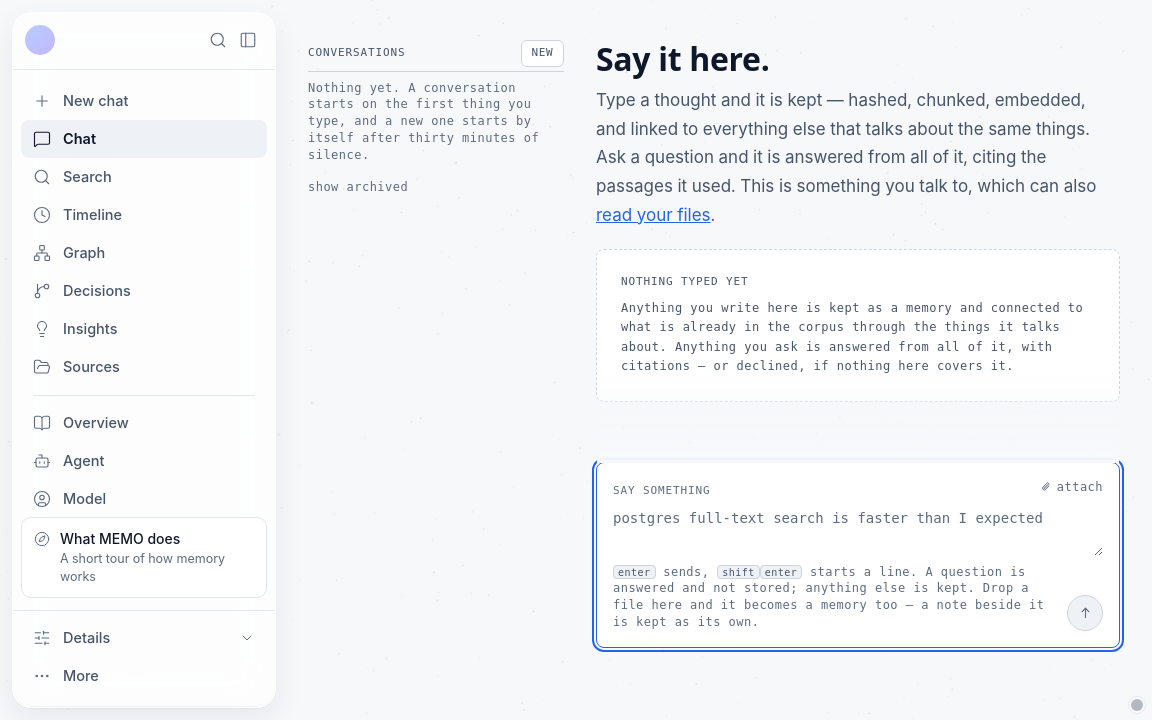
Test: the shortcuts sheet › is reachable from More in the sidebar, for anyone who does not know ?
This screenshot has width=1152, height=720.
Click the button "More" at [144, 676], box [21,657,267,695]
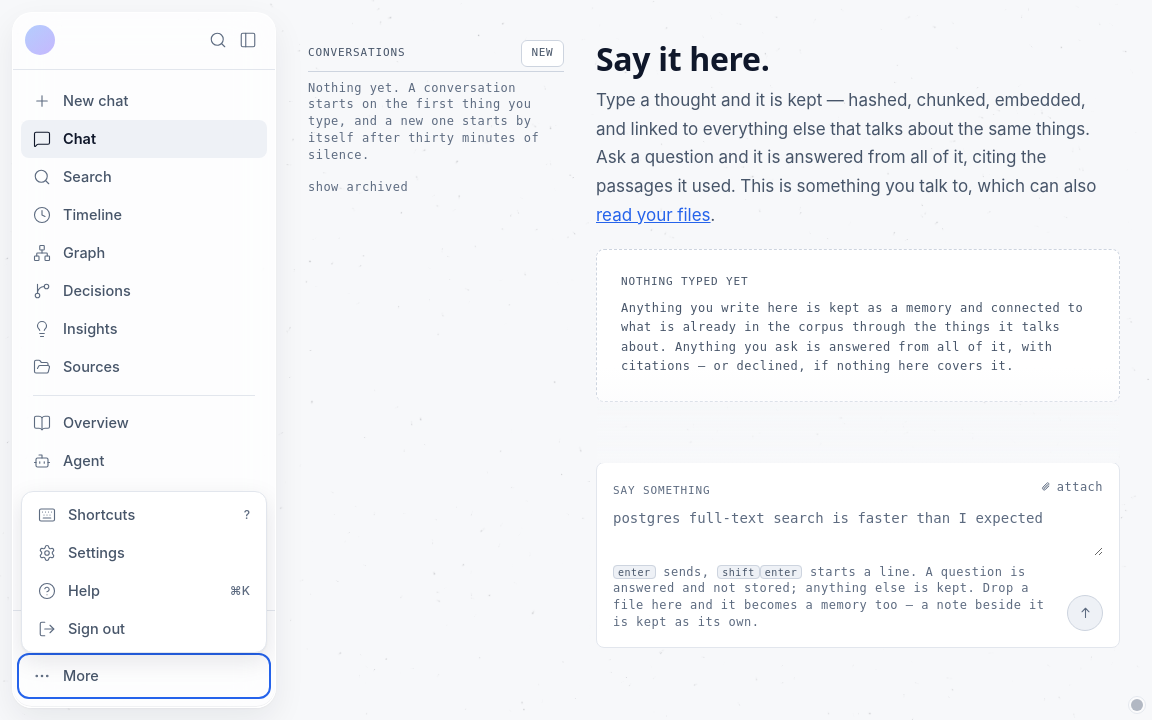
Click the menu item "Shortcuts ?" at [144, 515], box [26,496,262,534]
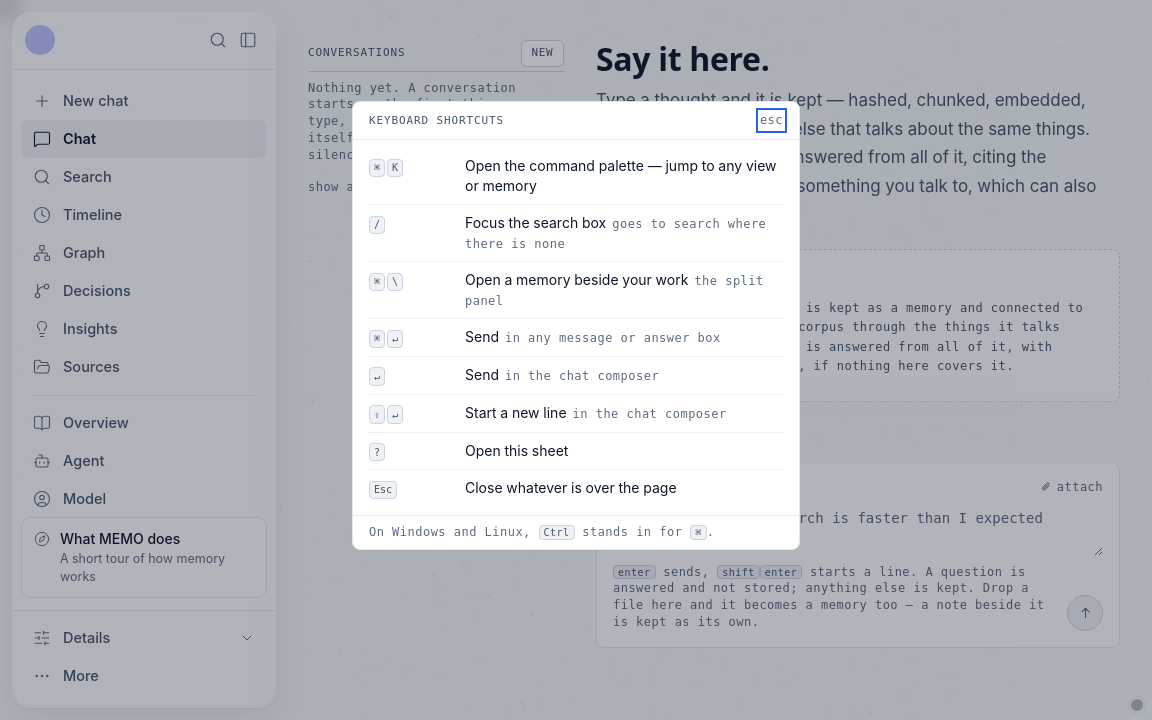
Now the dialog with test id "shortcuts-sheet" is shown, box [352,101,800,550]
